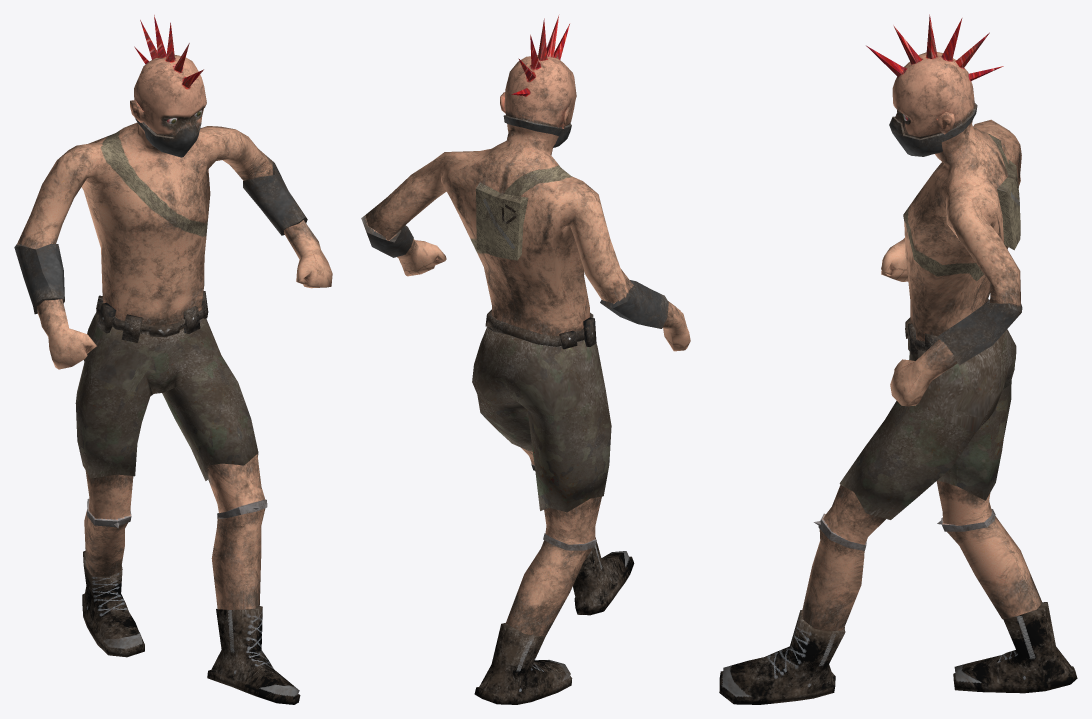
File: Anim_ataque_f1_npc2.0013.obj
3 renders of one model, left to right at view 1: azimuth 30°, elevation 25°; view 2: azimuth 150°, elevation 25°; view 3: azimuth 270°, elevation 25°, orthographic. The views are drawn at different scales.
Visible parts, largest first — view 1: polySurface1; view 2: polySurface1; view 3: polySurface1.
Part boxes in pixels (box(x1,y1,x2,y2)): polySurface1: box(14, 15, 332, 704); polySurface1: box(361, 14, 690, 704); polySurface1: box(719, 14, 1077, 704).
Bounding box in the file's own units: 4.58 × 9.82 × 4.65.
2 materials, 2 textured.
